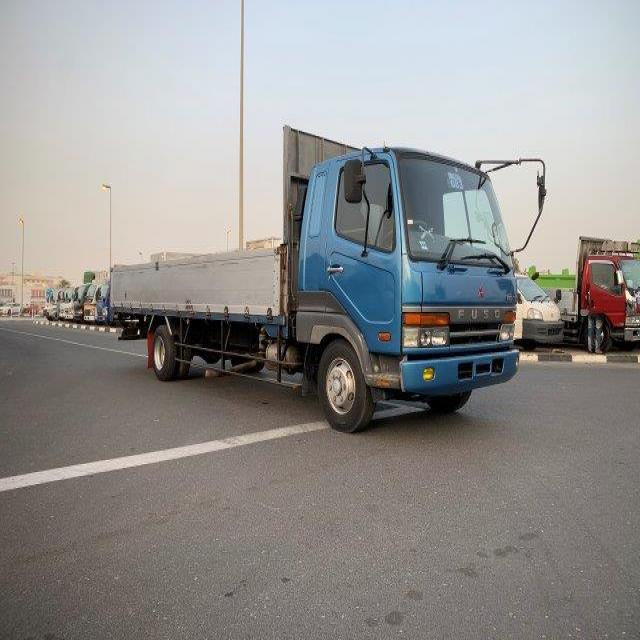truck: (105, 119, 546, 433)
